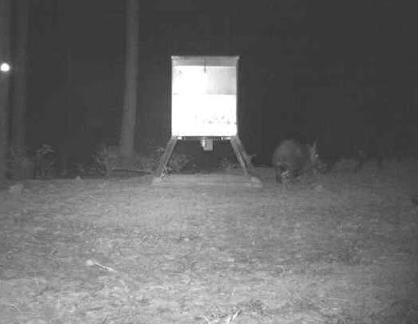Hog: (268, 136, 327, 187)
